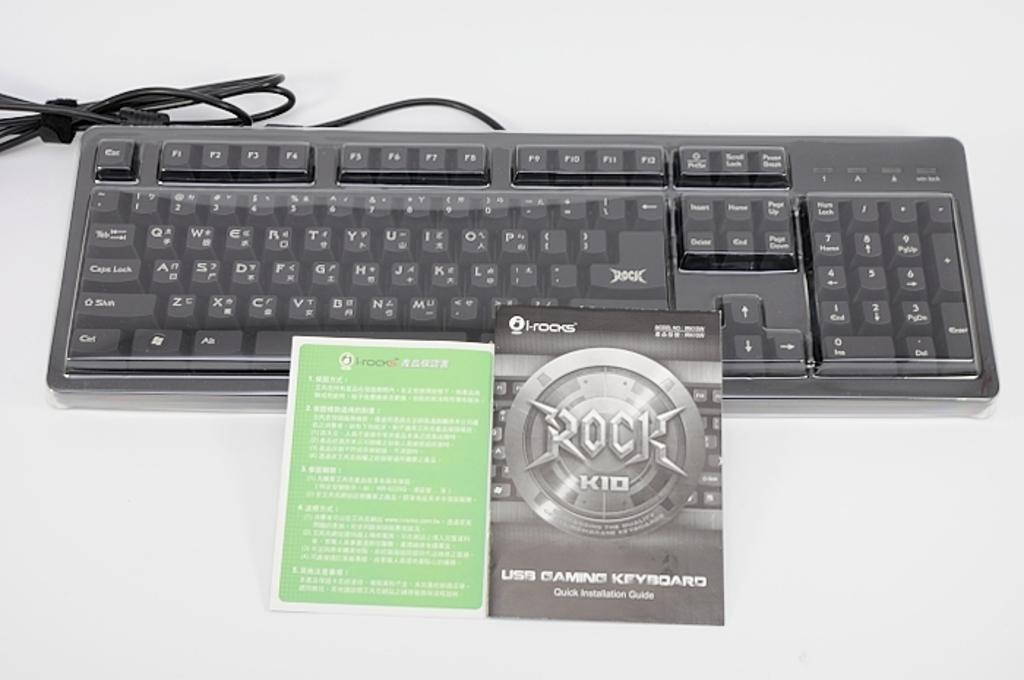Computer-keyboard: (0, 70, 1002, 421)
